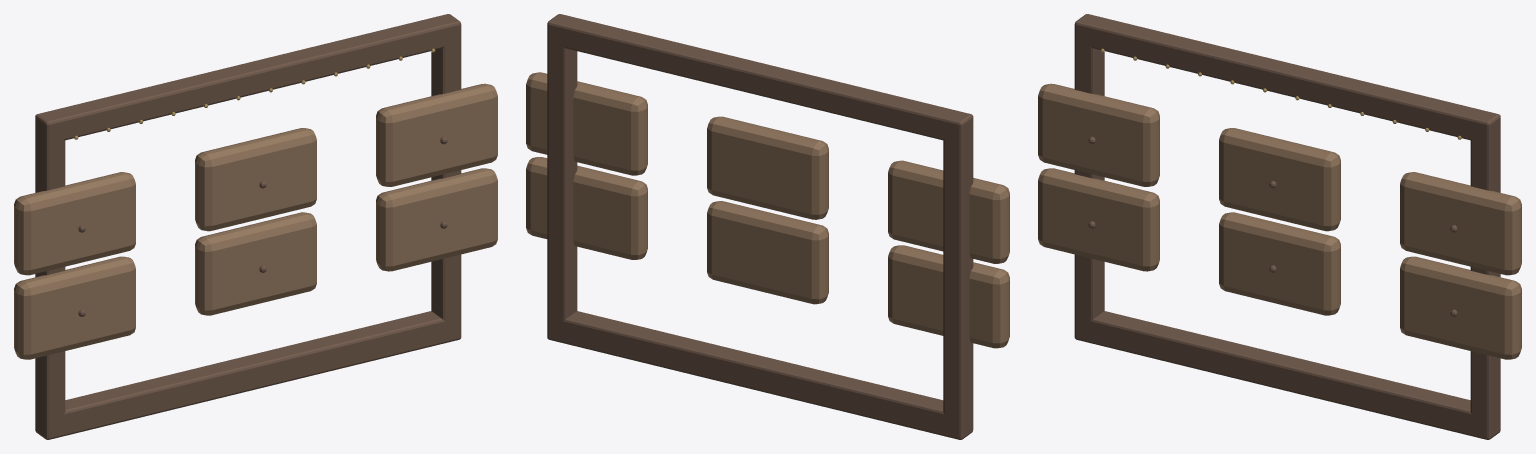
3 renders of one model, left to right at view 1: azimuth 30°, elevation 25°; view 2: azimuth 150°, elevation 25°; view 3: azimuth 330°, elevation 25°, orthographic.
Visible parts, largest first — view 1: upholsteredHeadboard; view 2: upholsteredHeadboard; view 3: upholsteredHeadboard.
Part boxes in pixels (x1=…): upholsteredHeadboard: x1=14, y1=14, x2=497, y2=439; upholsteredHeadboard: x1=526, y1=14, x2=1009, y2=439; upholsteredHeadboard: x1=1038, y1=14, x2=1521, y2=439.
Size of the model in its own units: 1.96 by 1.25 by 0.163.
